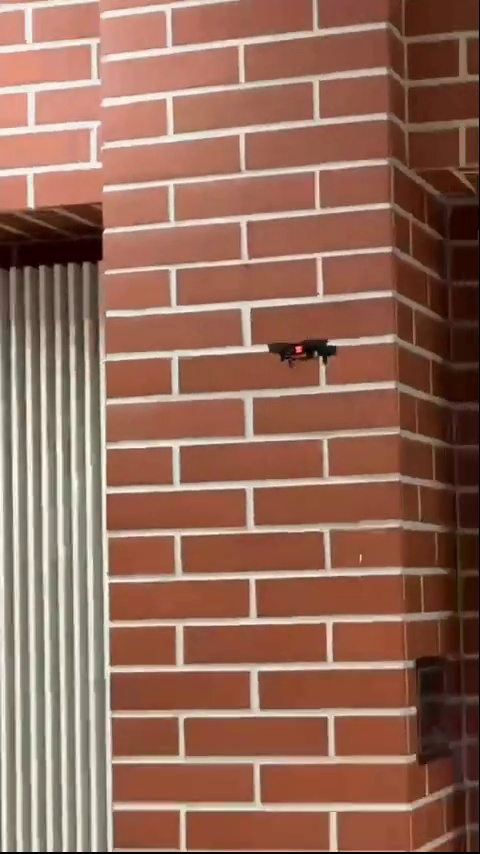drone: (272, 335, 346, 371)
